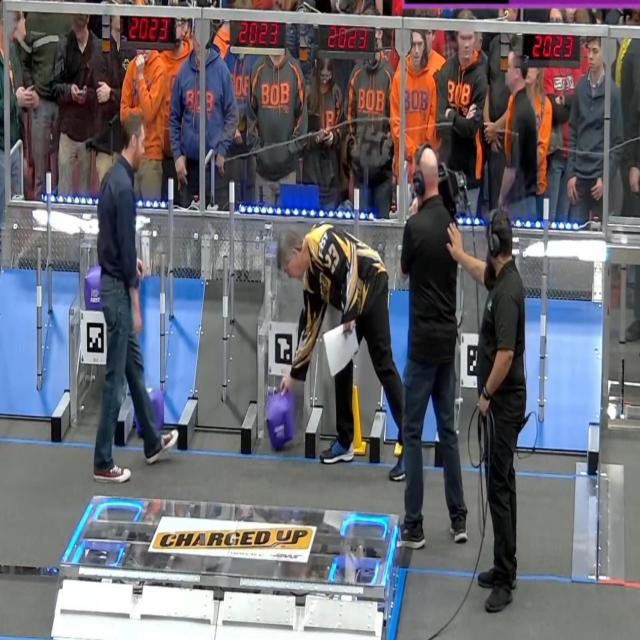frc_cone: (353, 386, 367, 454), (392, 434, 404, 459)
frc_cube: (266, 391, 298, 448), (85, 267, 111, 310), (150, 390, 166, 430)
